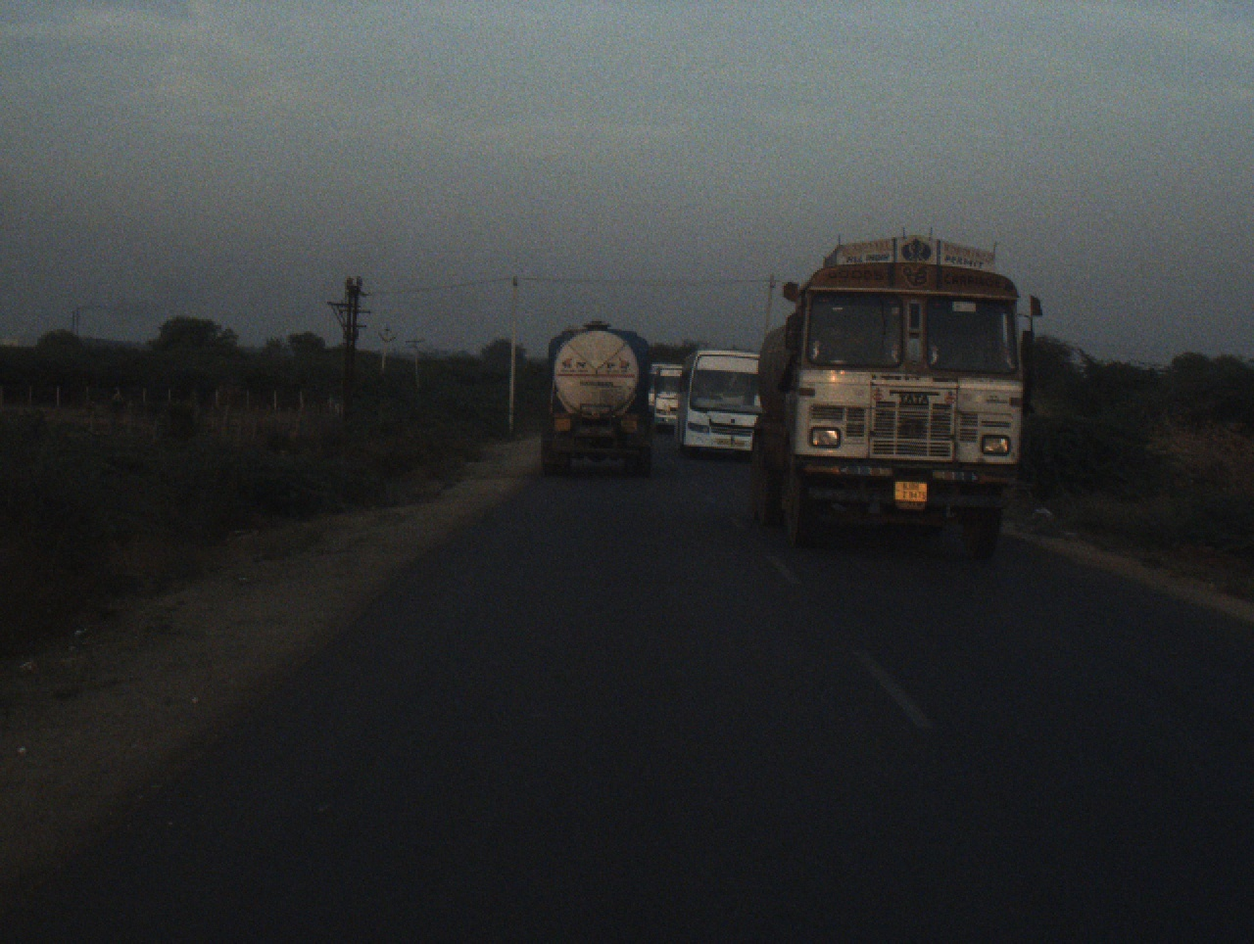bus: (676, 347, 767, 461), (656, 359, 687, 433), (639, 359, 665, 411)
truck: (748, 231, 1044, 567), (540, 311, 662, 485)
